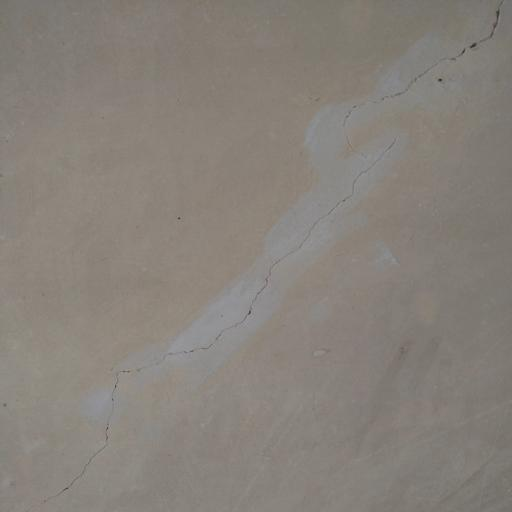minor_crack: (5, 0, 512, 512)
